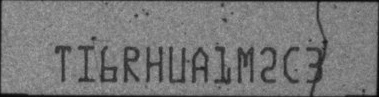1: (214, 45, 231, 84)
2: (260, 45, 277, 84)
3: (305, 45, 324, 84)
6: (100, 44, 118, 83)
A: (190, 46, 208, 84)
C: (282, 45, 300, 83)
H: (145, 44, 164, 83)
I: (77, 44, 96, 83)
M: (236, 45, 254, 83)
R: (122, 45, 139, 83)
T: (54, 45, 73, 82)
U: (167, 44, 185, 83)
